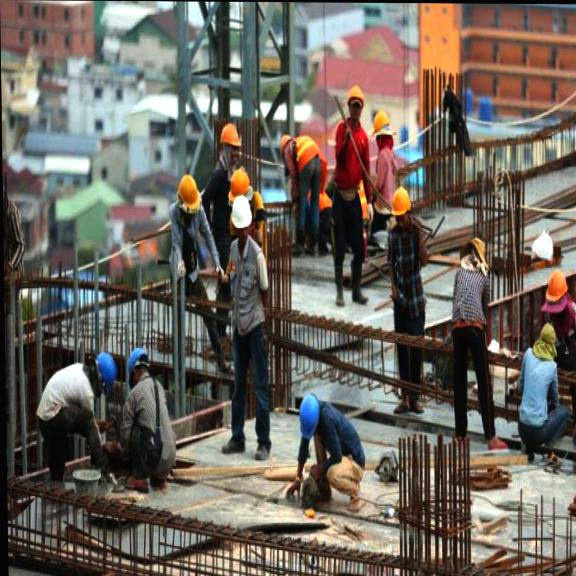no_safety_vest: (379, 216, 430, 327), (228, 235, 269, 351), (514, 349, 565, 432), (130, 382, 178, 469), (40, 367, 92, 439), (447, 263, 490, 348), (331, 123, 369, 212), (319, 394, 366, 461)
safety_vest: (282, 130, 316, 175)
